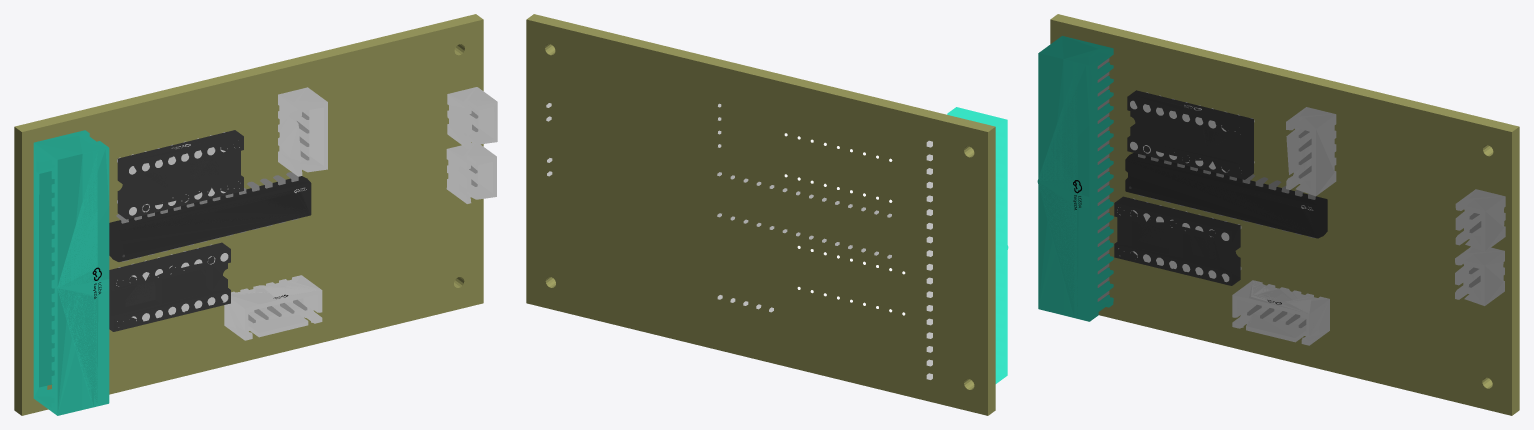
File: OBJ_PCB_Compass belt control_TPS63031.obj
3 views of the same model, side by side, from view 1: azimuth 30°, elevation 25°; view 2: azimuth 150°, elevation 25°; view 3: azimuth 330°, elevation 25° (orthographic).
Size of the model in its own units: 353 by 207 by 46.89.
